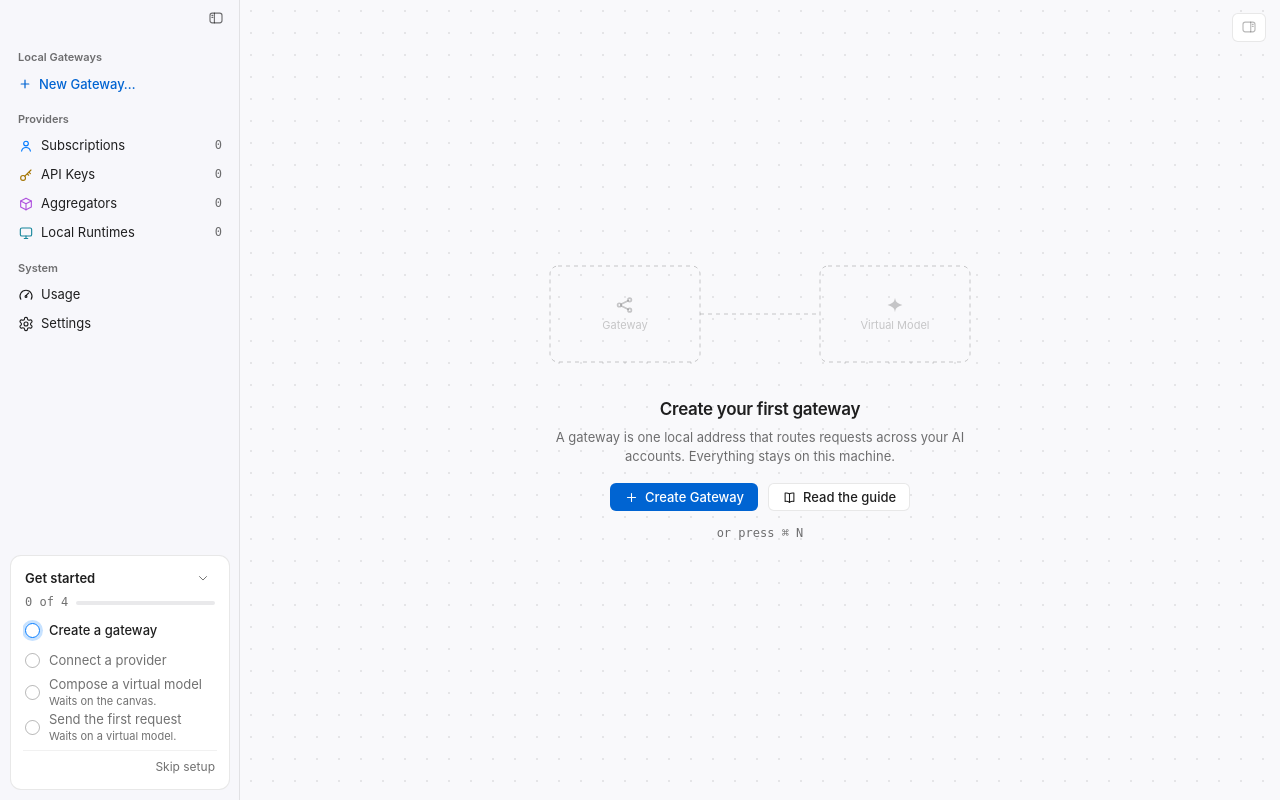
Test case: a gateway saved from the sheet reaches the sidebar as a running row
Click the button "Create Gateway" at (684, 498), box [610,484,758,512]
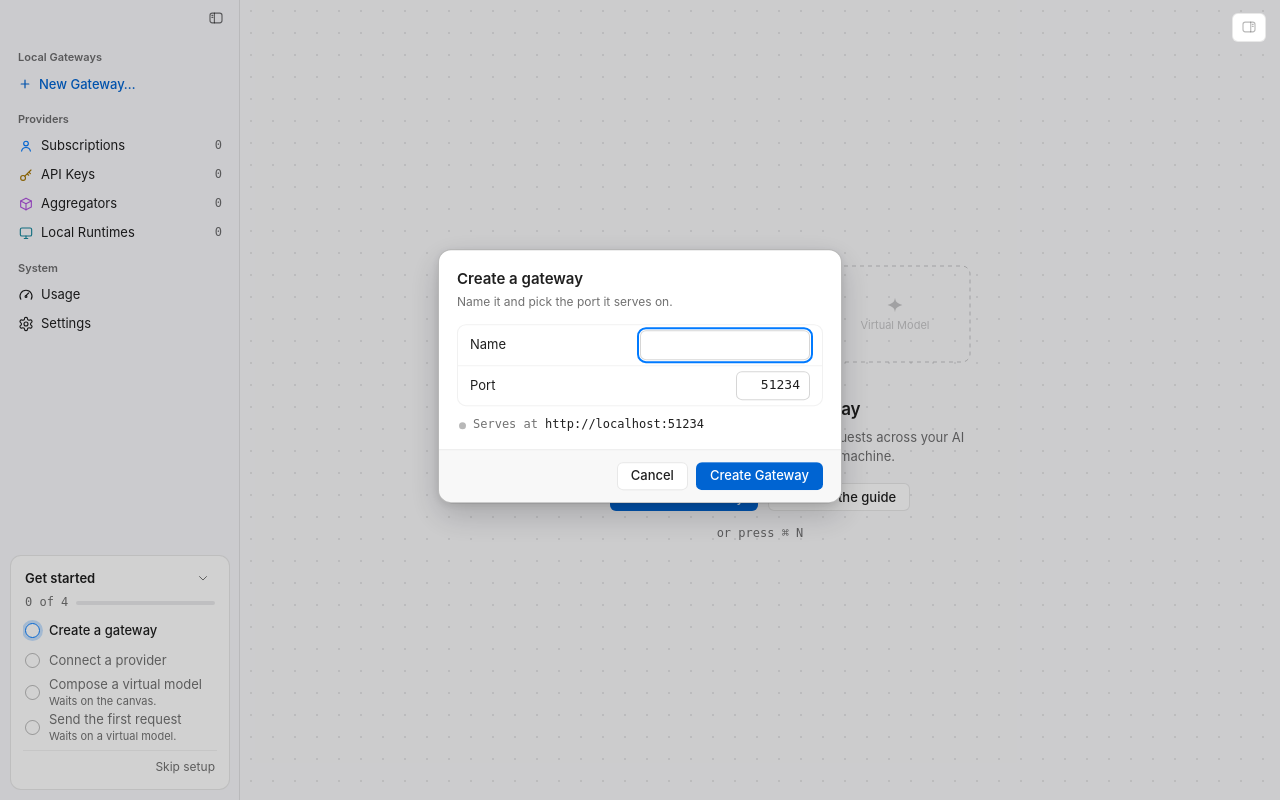
Type "Codex" into the field labelled "Name" at (725, 345), box [640,330,810,360]
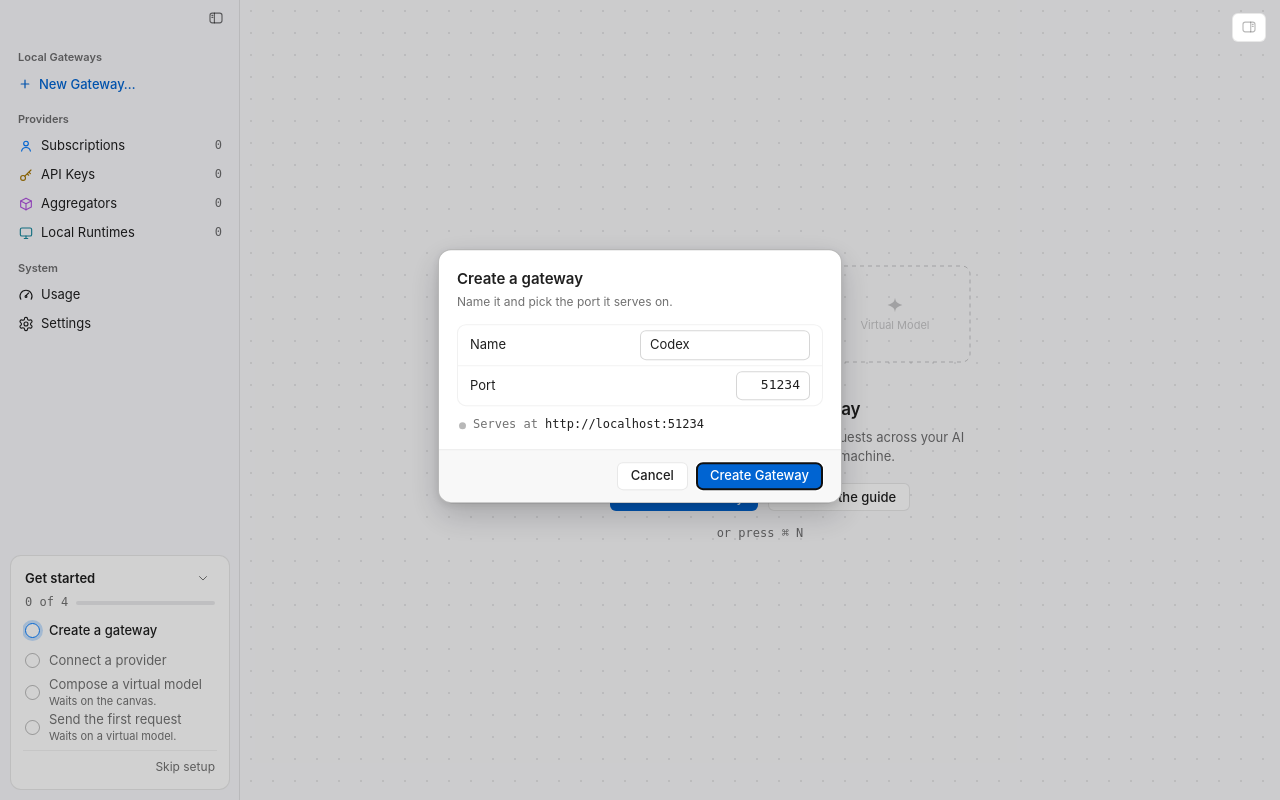
Press Enter
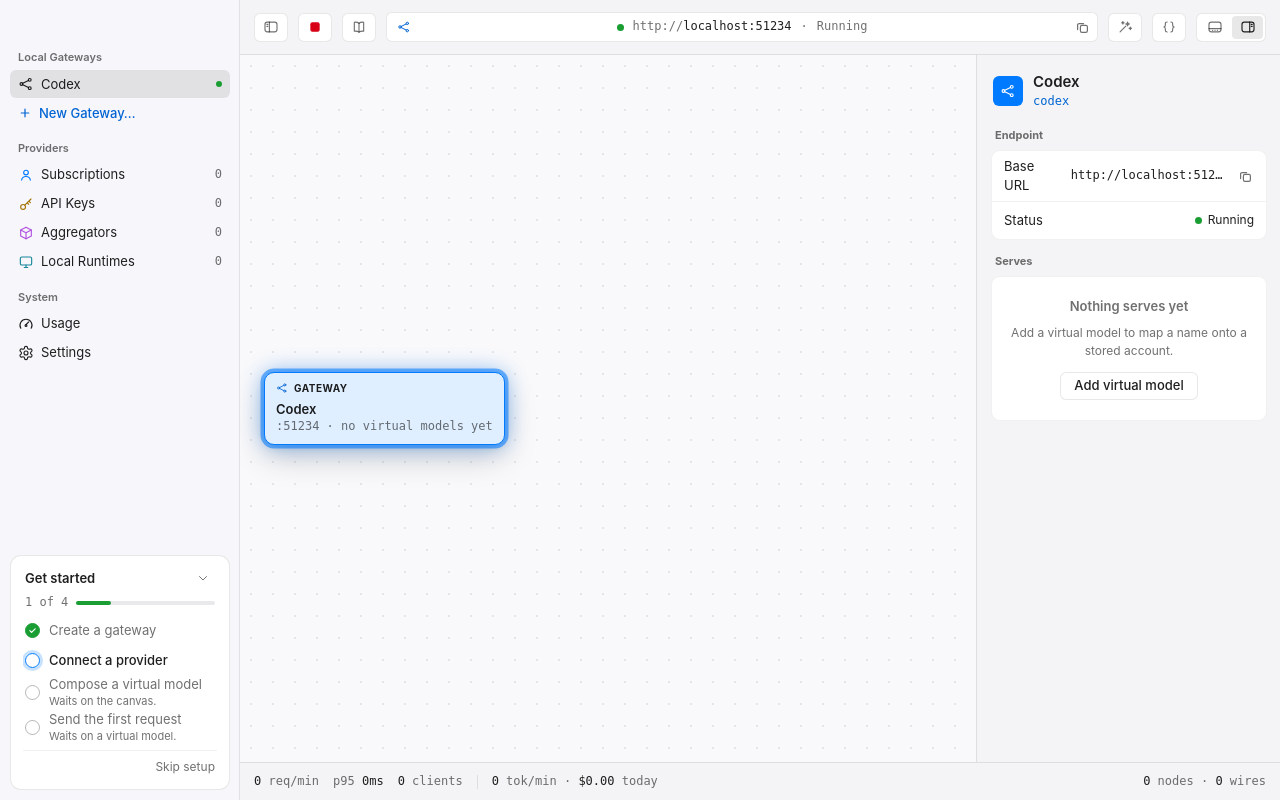
Expected: the link named "Codex Running" is shown, [10,70,230,98]
